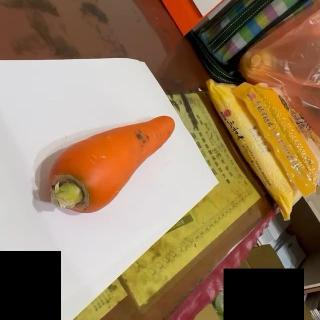carrot: (48, 116, 176, 215)
